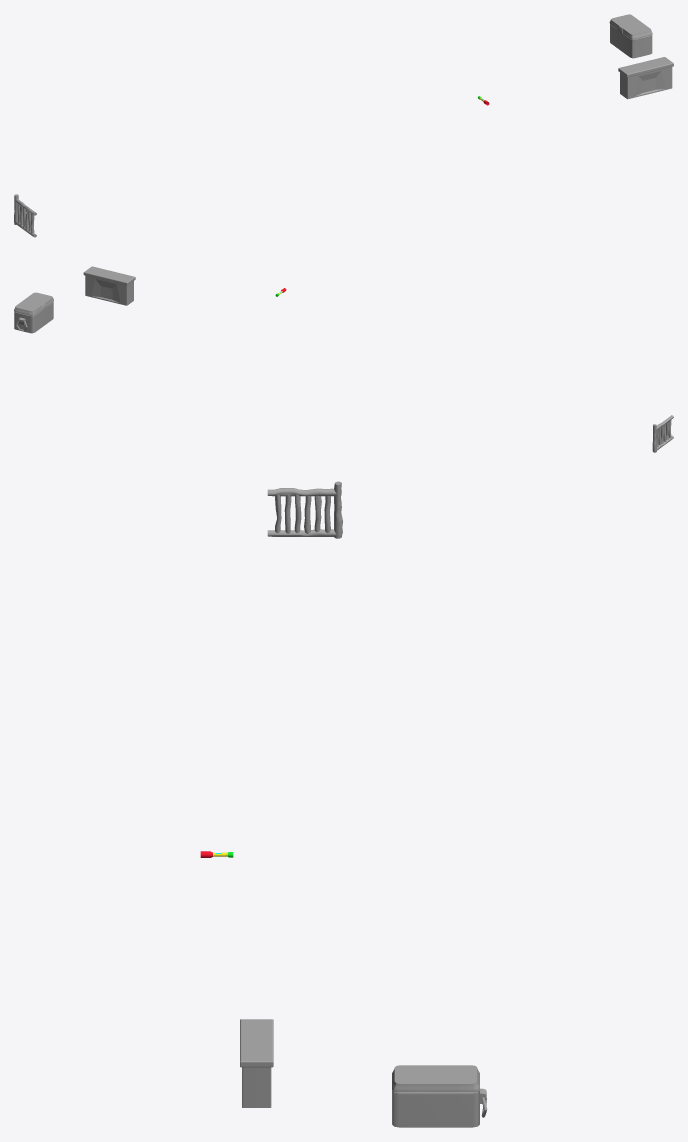
3 renders of one model, top to bottom at view 1: azimuth 30°, elevation 25°; view 2: azimuth 150°, elevation 25°; view 3: azimuth 270°, elevation 25°, orthographic. The views are drawn at different scales.
Visible parts, largest first — view 1: container:plasticContainerpCube1, base, lid, container:pCube2plasticContainer; view 2: container:plasticContainerpCube1, base, lid, container:pCube2plasticContainer; view 3: base, lid, container:pCube2plasticContainer, container:plasticContainerpCube1.
Part boxes in pixels (bbox=[...]): container:plasticContainerpCube1: bbox=[620, 67, 672, 99]; base: bbox=[610, 24, 652, 58]; lid: bbox=[609, 14, 652, 39]; container:pCube2plasticContainer: bbox=[618, 57, 673, 77]; container:plasticContainerpCube1: bbox=[85, 275, 133, 305]; base: bbox=[14, 301, 53, 333]; lid: bbox=[14, 292, 53, 315]; container:pCube2plasticContainer: bbox=[83, 266, 135, 285]; base: bbox=[392, 1090, 479, 1127]; lid: bbox=[392, 1065, 479, 1092]; container:pCube2plasticContainer: bbox=[240, 1019, 273, 1067]; container:plasticContainerpCube1: bbox=[242, 1067, 271, 1107].
Size of the model in its own units: 20.07 by 1.26 by 4.09.
